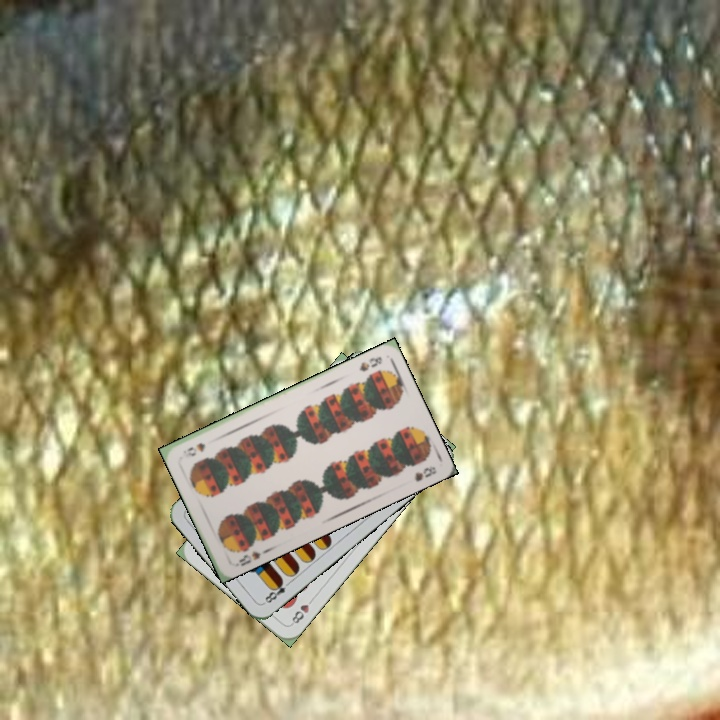E8: (260, 576, 294, 606)
H8: (287, 593, 317, 627)
S8: (230, 547, 264, 570), (355, 352, 385, 374)
